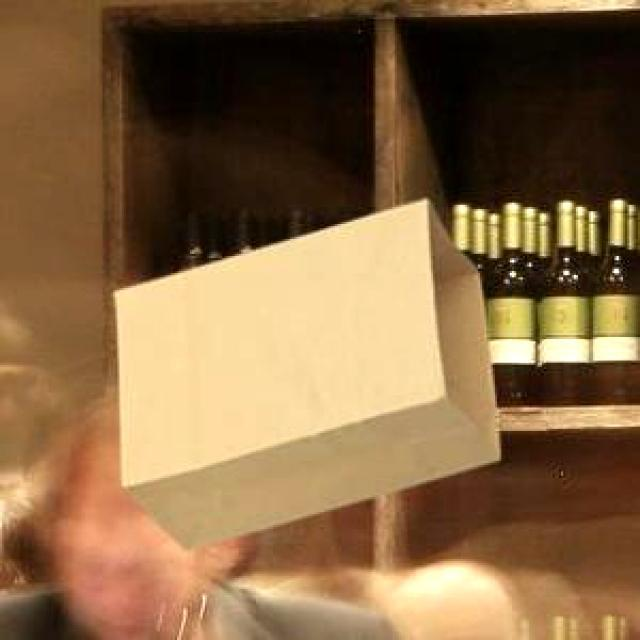Paper_Bag: (112, 198, 496, 548)
